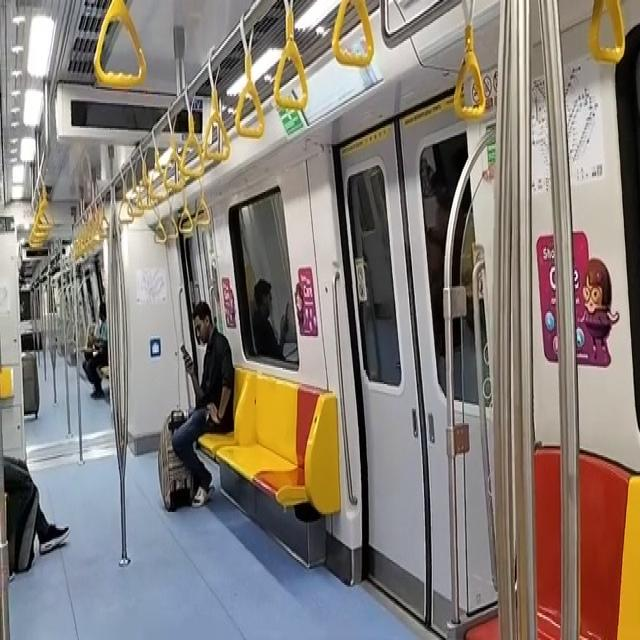bus-door: (327, 103, 500, 640)
